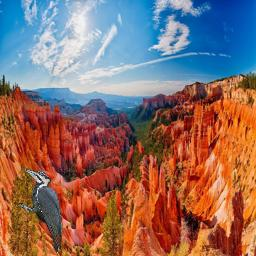Woodpecker: (18, 168, 66, 255)
